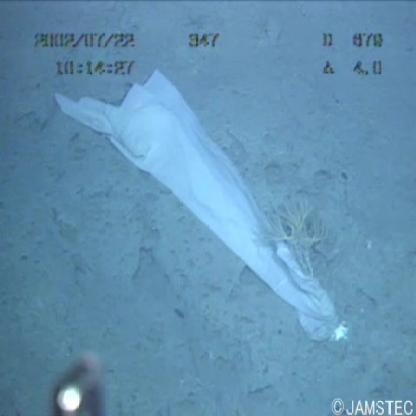Bio: (250, 184, 338, 285)
Rov: (34, 337, 112, 416)
Rác: (44, 68, 356, 351)
